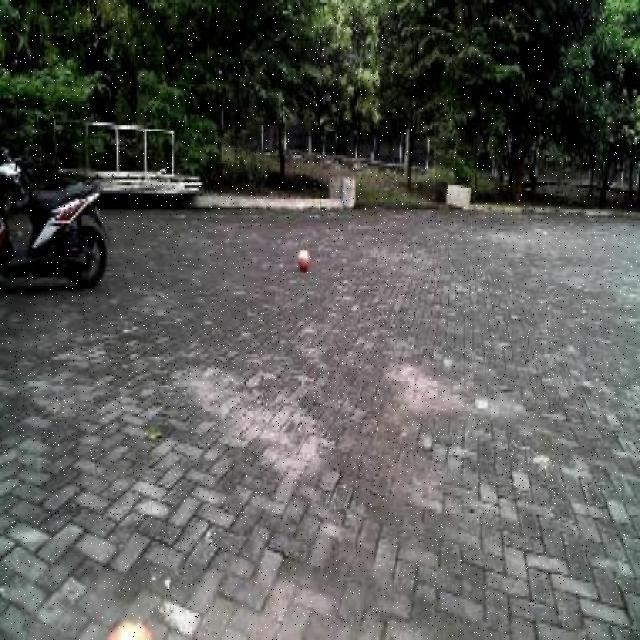buoy: (294, 237, 312, 272)
